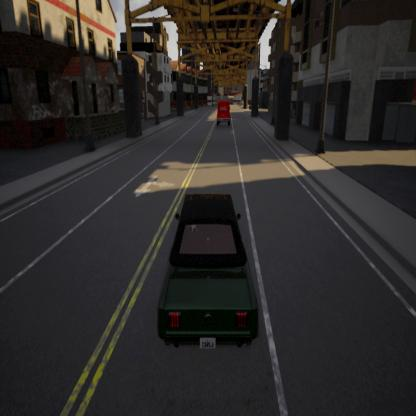Cars: (150, 187, 266, 361), (213, 96, 235, 130)
